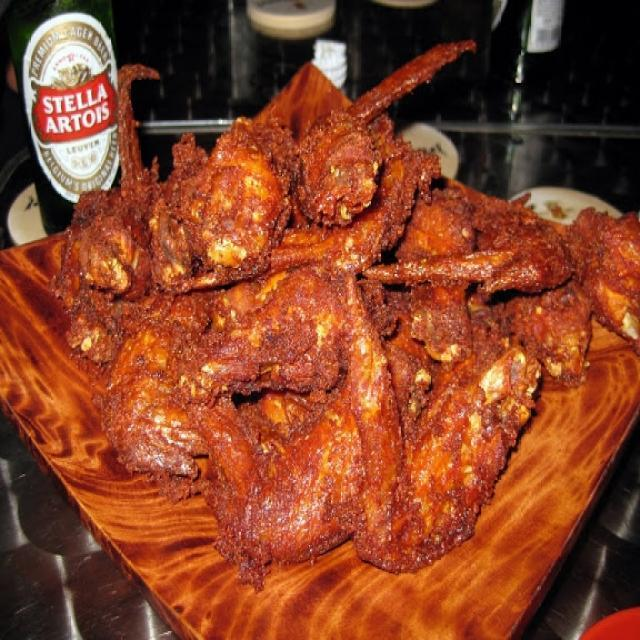Deep fried chicken wing: (76, 110, 622, 572)
